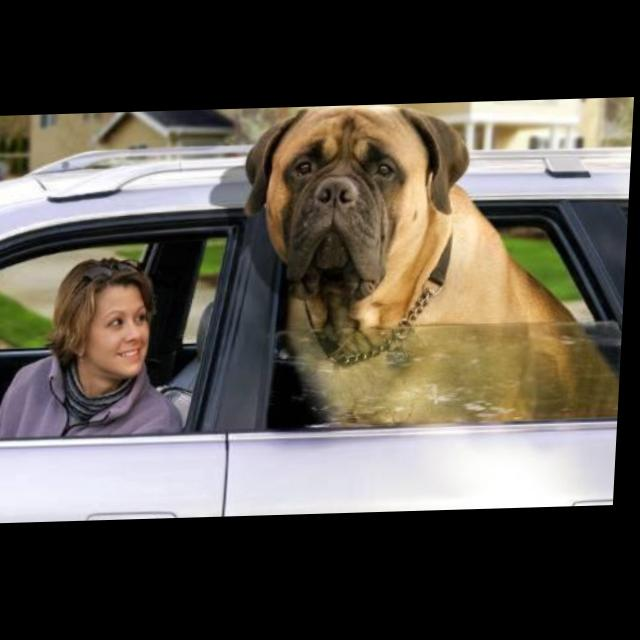bullmastiff: (236, 102, 636, 433)
face: (91, 286, 156, 380)
person: (1, 257, 195, 442)
